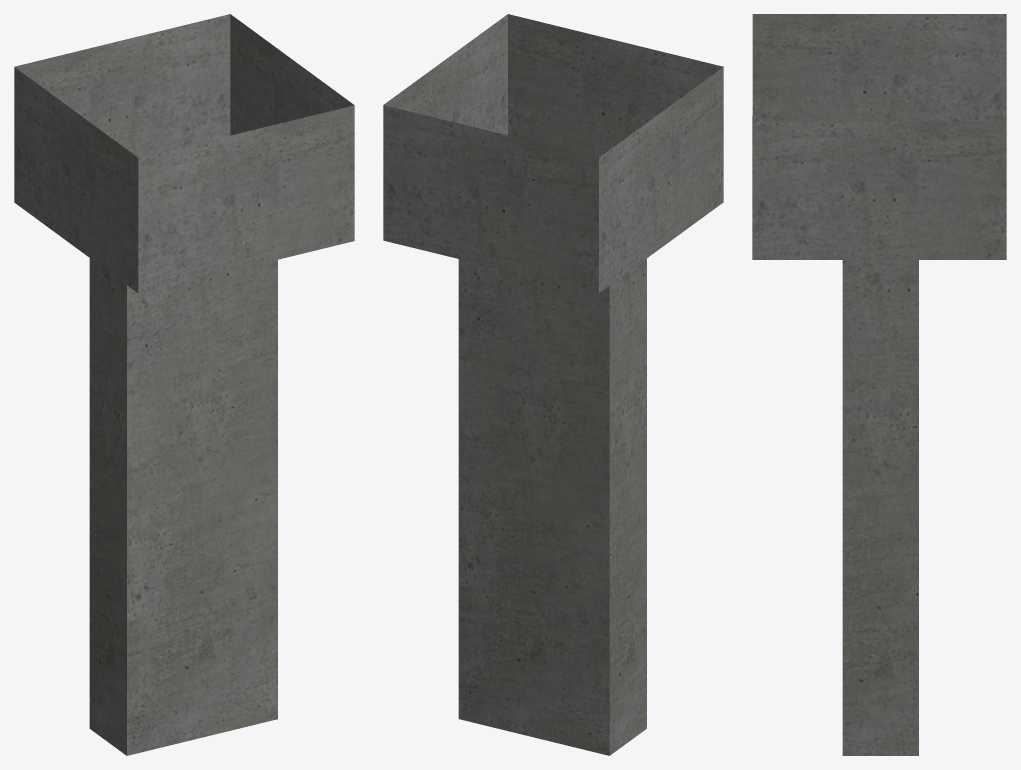
The model's file is SM_BridgeColumn_v01.FBX.
The picture shows the model from 3 angles, left to right: view 1: azimuth 30°, elevation 25°; view 2: azimuth 150°, elevation 25°; view 3: azimuth 270°, elevation 25°; orthographic projection. The views are drawn at different scales.
Parts seen in each view (by area): view 1: SM_BridgeColumn_v01; view 2: SM_BridgeColumn_v01; view 3: SM_BridgeColumn_v01.
Part boxes in pixels (<box>): SM_BridgeColumn_v01: <box>14,14,354,755</box>; SM_BridgeColumn_v01: <box>383,14,723,755</box>; SM_BridgeColumn_v01: <box>752,14,1006,755</box>.
Size of the model in its own units: 5.01 by 14.11 by 5.
1 material, 1 textured.
